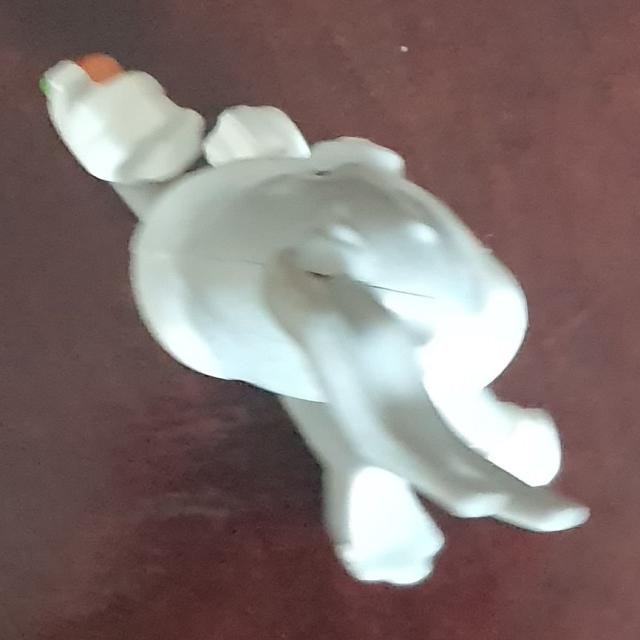Rabbit: (38, 51, 591, 587)
